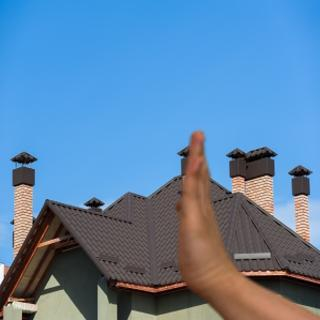RIGHT: (166, 126, 242, 296)
